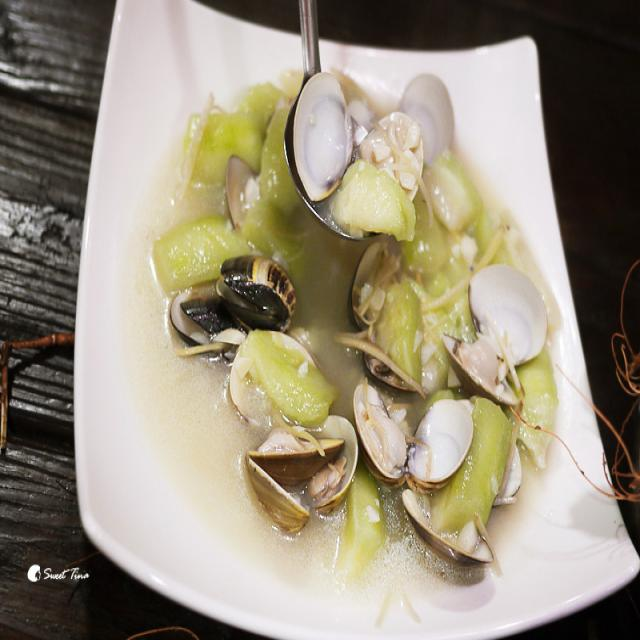Wet: (183, 56, 524, 478)
